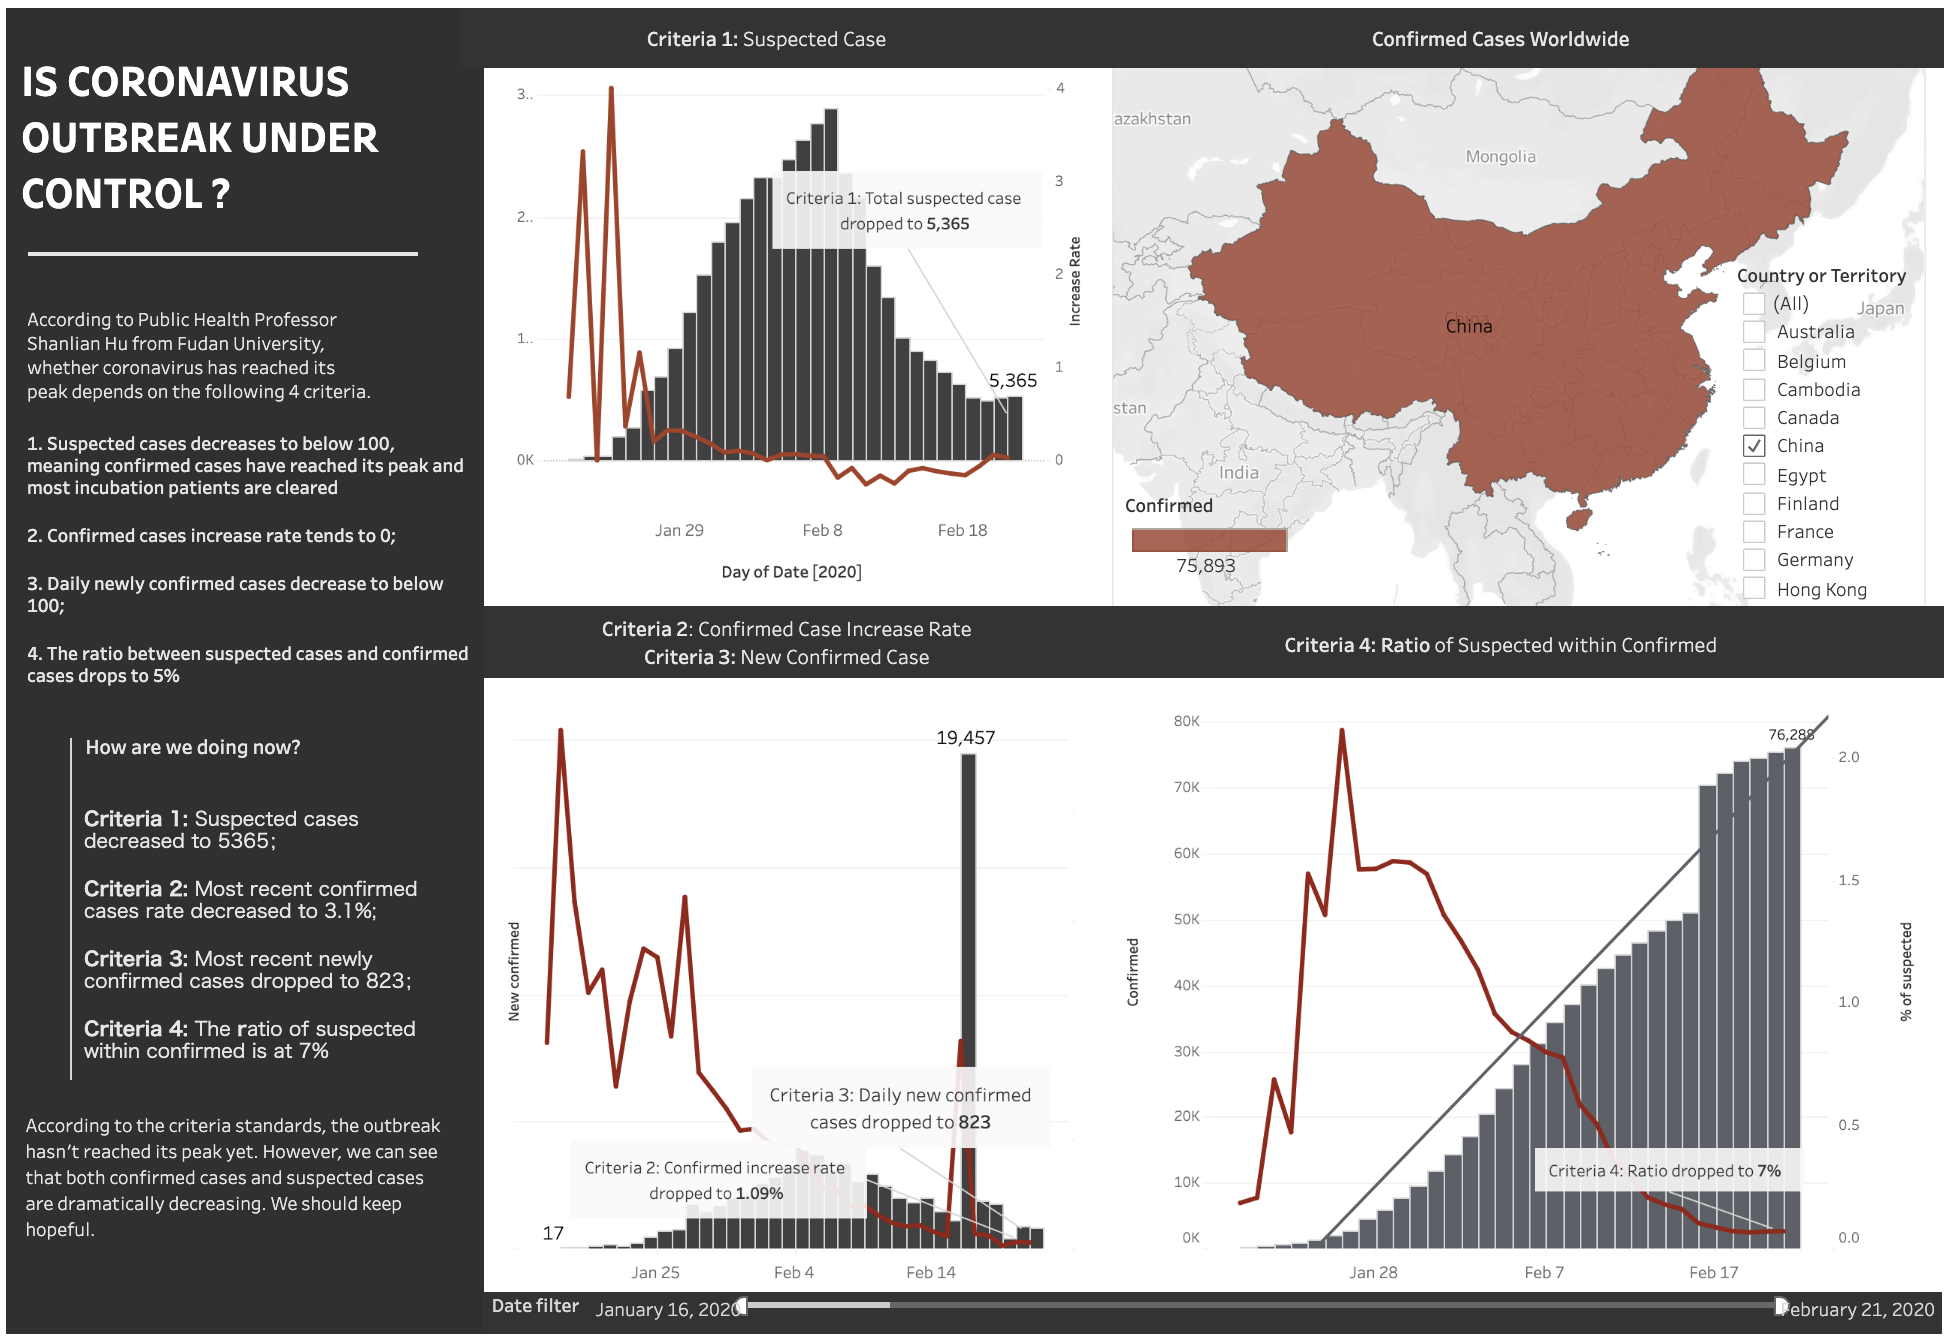

The dashboard page shown, as its layout file describes it:
{"tool":"tableau","page":{"name":"Has it gone better?","canvas":[1300,900],"ordinal":0},"visuals":[{"type":"blank","box":[8,8,318,884]},{"type":"text","box":[310,8,410,40]},{"type":"worksheet","title":"suspected rate","mark":"Automatic","rows":["Suspected","suspected increase rate"],"cols":["Date"],"box":[326,8,405.3,399]},{"type":"text","box":[709,8,591,40]},{"type":"worksheet","title":"Sheet 2","mark":"Automatic","box":[731.3,8,560.7,446]},{"type":"text","box":[18,9,304,171]},{"type":"blank","box":[23,170,259,3]},{"type":"filter","title":"Sheet 2","param":"[federated.1qpn21x0trgi7u14qv8u016bu6xd].[none:Country or territory(a):nk]","box":[1162,179,118,225]},{"type":"text","box":[22,185,235,115]},{"type":"text","box":[22,277,296,274]},{"type":"legend","title":"Sheet 2","param":"[federated.1qpn21x0trgi7u14qv8u016bu6xd].[sum:Confirmed:qk]","box":[754,331,112,76]},{"type":"text","box":[326,407,405.3,48]},{"type":"text","box":[709,407,591,48]},{"type":"worksheet","title":"new confirmed case","mark":"Bar","rows":["New confirmed","confirmed increased rate"],"cols":["Date"],"box":[326,455,405.3,437]},{"type":"worksheet","title":"confirmed rate","mark":"Bar","rows":["Confirmed","% of suspected"],"cols":["Date"],"box":[731.3,455,560.7,437]},{"type":"text","box":[61,484,183,30]},{"type":"blank","box":[51,495,1,228]},{"type":"text","box":[60,519,240,254]},{"type":"text","box":[21,735,282,108]},{"type":"filter","title":"suspected rate","param":"[federated.1e7m9un09xyrh6108t7sd1y11jx7].[tdy:Date:qk]","box":[325,864,973,28]}]}

Visuals, with their boxes in screenshot pixels (x1, y1, x2, y2), scaled from the page's 1300x900 canvas onto the 1948x1342 screenshot:
blank: select_region(12, 12, 488, 1330)
text: select_region(465, 12, 1079, 72)
"suspected rate" worksheet: select_region(488, 12, 1096, 607)
text: select_region(1062, 12, 1947, 72)
"Sheet 2" worksheet: select_region(1096, 12, 1936, 677)
text: select_region(27, 13, 483, 268)
blank: select_region(34, 253, 423, 258)
"Sheet 2" filter: select_region(1741, 267, 1918, 602)
text: select_region(33, 276, 385, 447)
text: select_region(33, 413, 477, 822)
"Sheet 2" legend: select_region(1130, 494, 1298, 607)
text: select_region(488, 607, 1096, 678)
text: select_region(1062, 607, 1947, 678)
"new confirmed case" worksheet (Bar marks): select_region(488, 678, 1096, 1330)
"confirmed rate" worksheet (Bar marks): select_region(1096, 678, 1936, 1330)
text: select_region(91, 722, 366, 766)
blank: select_region(76, 738, 78, 1078)
text: select_region(90, 774, 450, 1153)
text: select_region(31, 1096, 454, 1257)
"suspected rate" filter: select_region(487, 1288, 1945, 1330)
